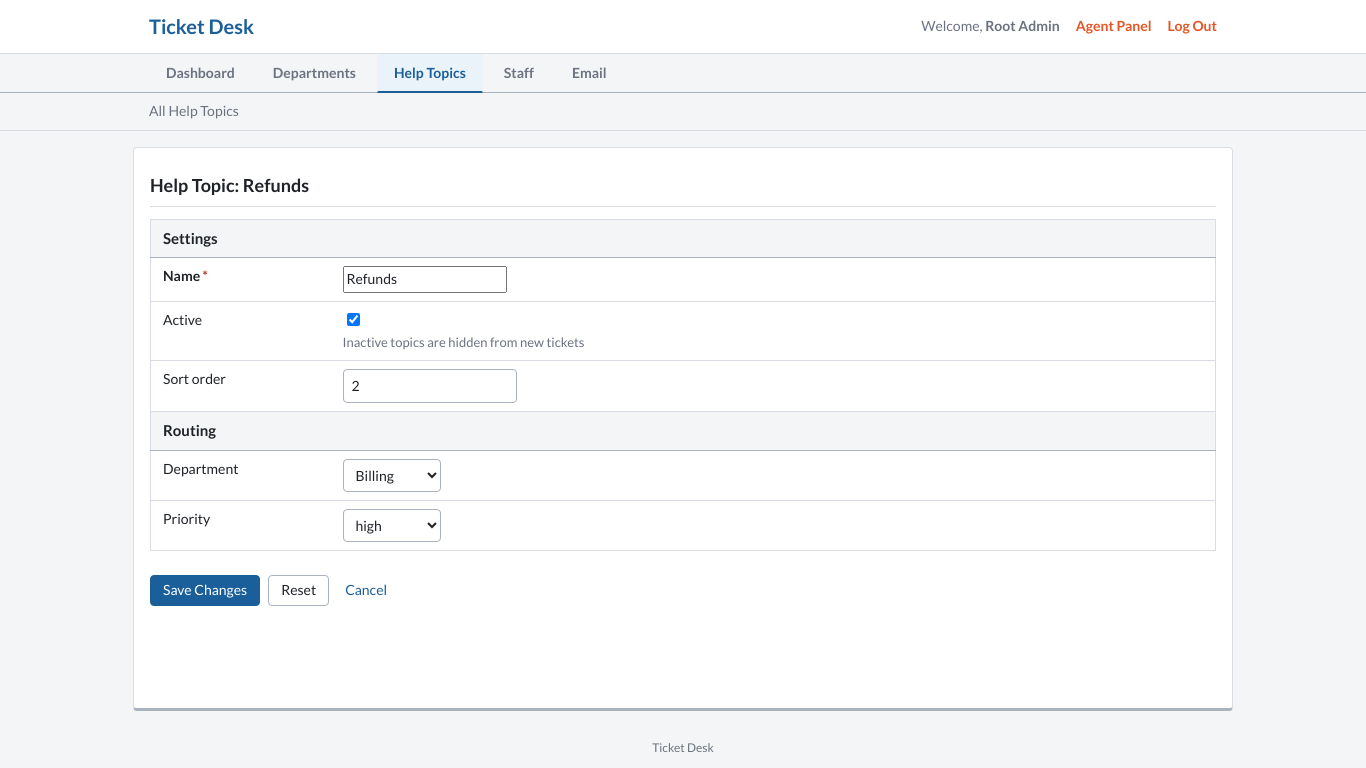
reset restores the loaded values, including the sort order
Replace the text in the field labelled "Name*" with "Changed" at (424, 280), box [342,266,506,293]
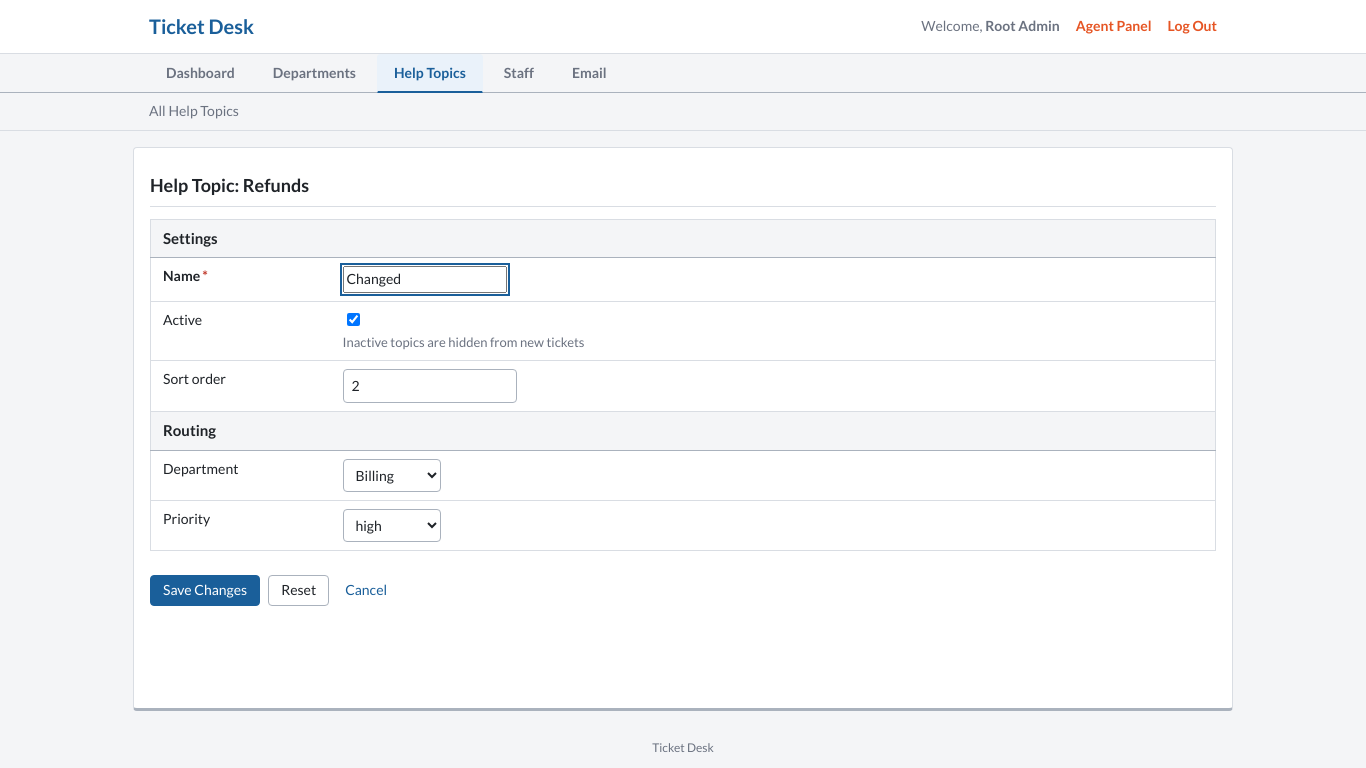
Replace the text in the number field labelled "Sort order" with "9" at (430, 386), box [342,369,516,403]
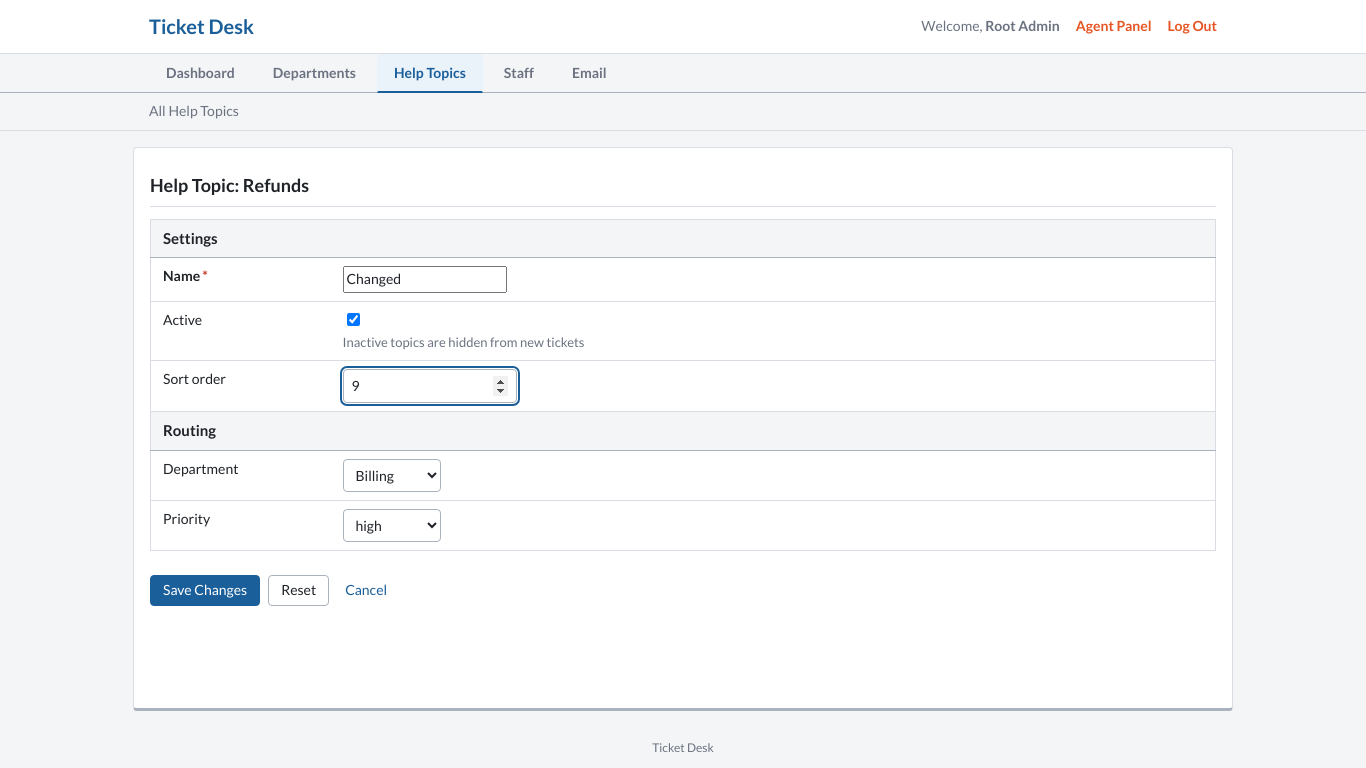
Click the button "Reset".
click(299, 590)  # box [268,575,329,606]
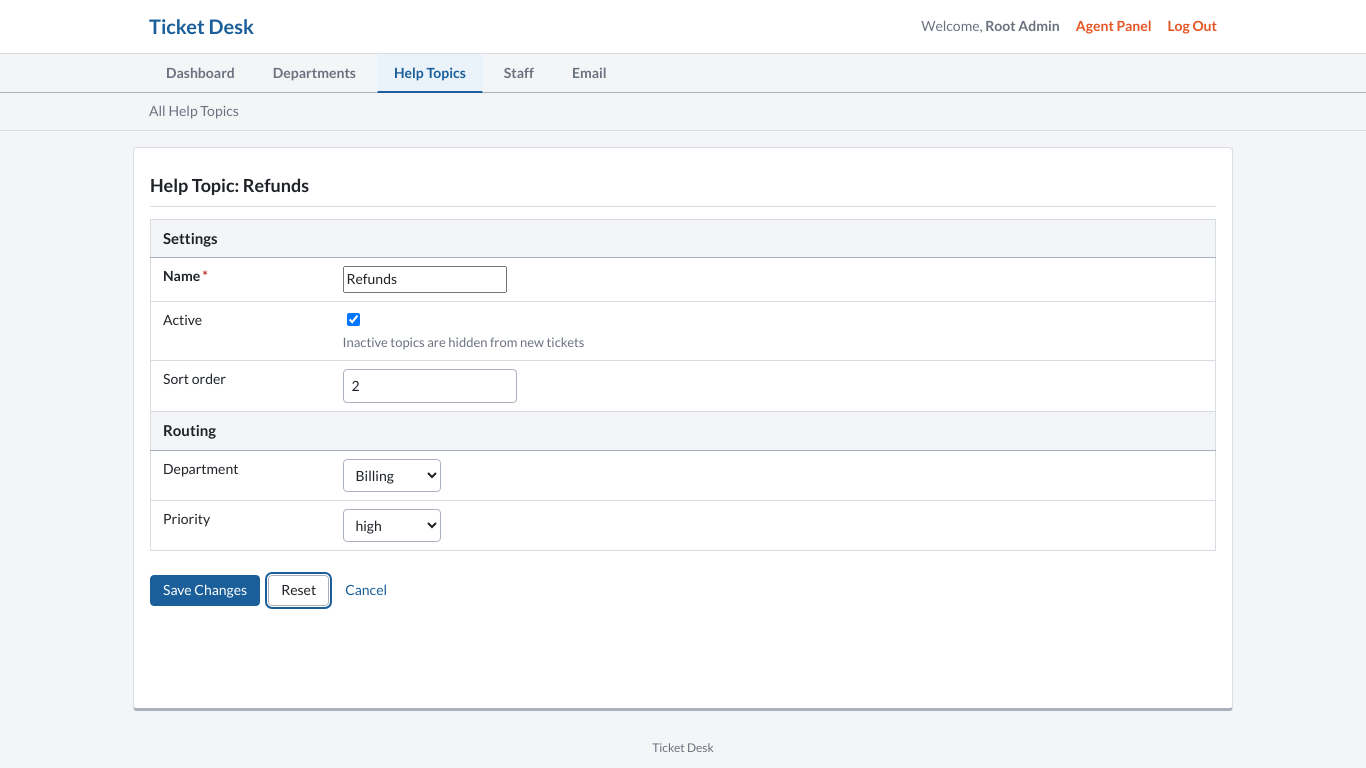
Expected: the number field labelled "Sort order" holds "2", [342,369,516,403]
